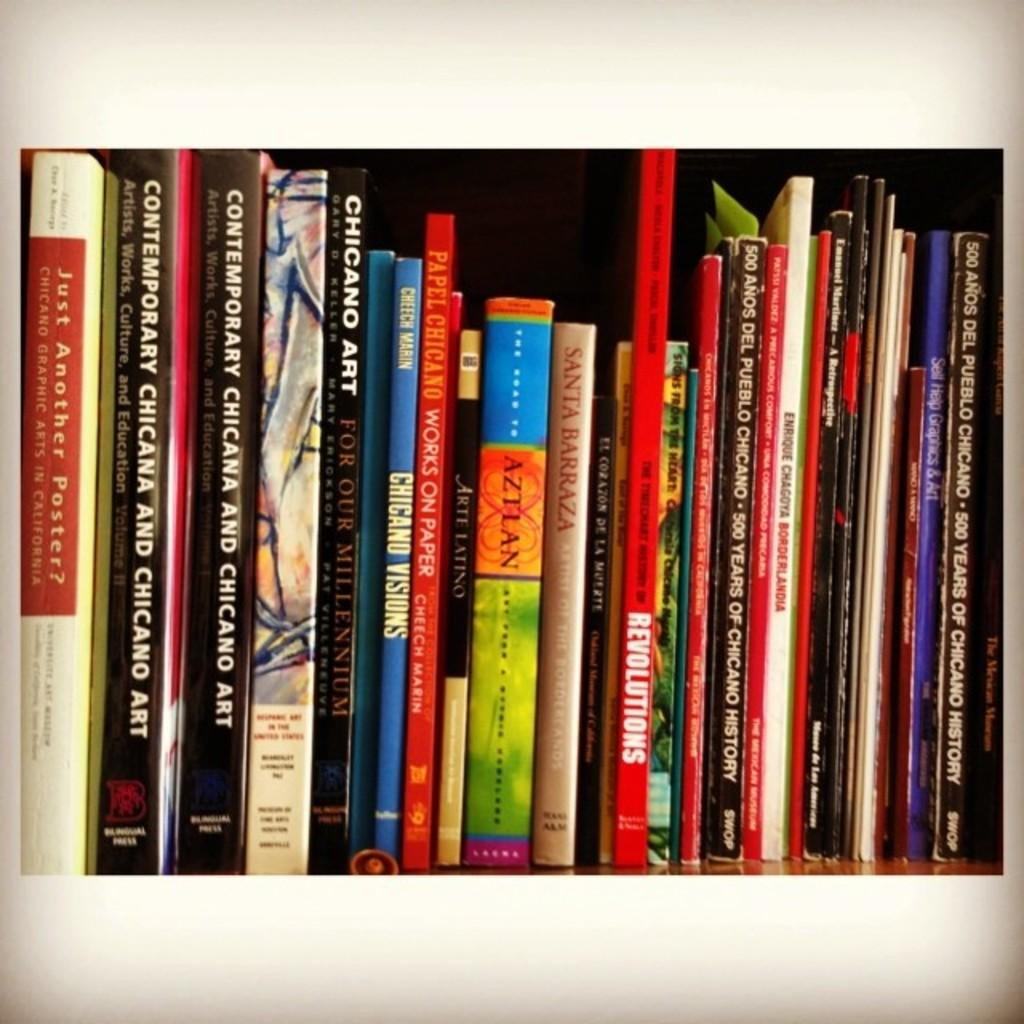Luggage-and-bags: (20, 149, 1002, 876)
